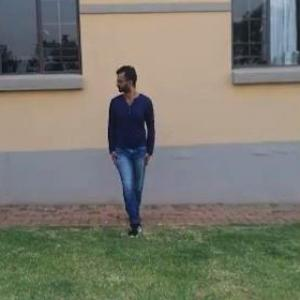follow: (106, 63, 155, 232)
